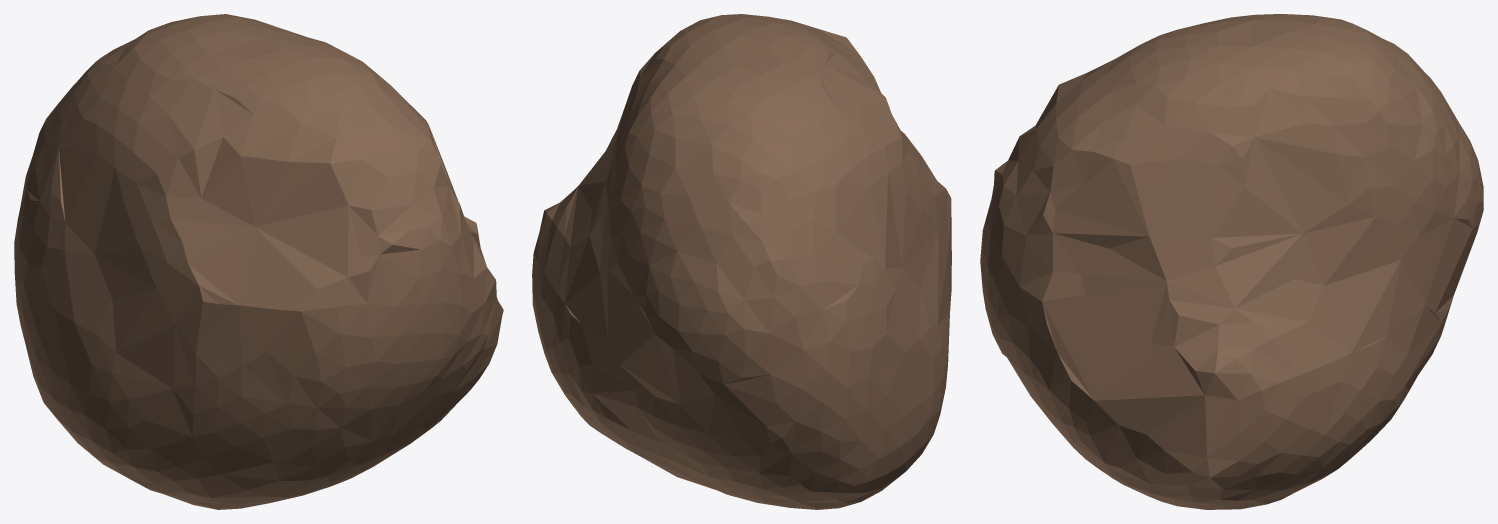
File: Model_10654_LH__Lateral_(dentate)_cerebellar_nucleus_(Lat).obj
The picture shows the model from 3 angles, left to right: view 1: azimuth 30°, elevation 25°; view 2: azimuth 150°, elevation 25°; view 3: azimuth 270°, elevation 25°; orthographic projection. The views are drawn at different scales.
Bounding box in the file's own units: 1.31 × 1.38 × 1.39.
